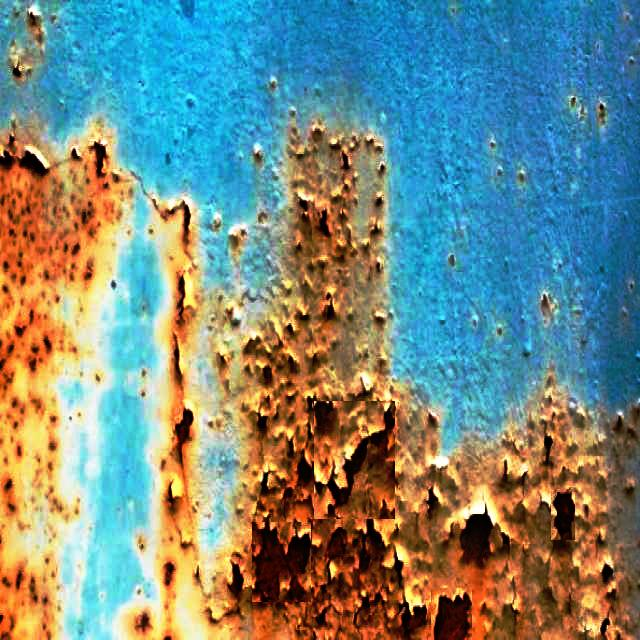Corrosion: (129, 108, 640, 640), (0, 146, 125, 640), (397, 400, 640, 640), (254, 404, 427, 640), (0, 315, 89, 640), (0, 145, 124, 330)
